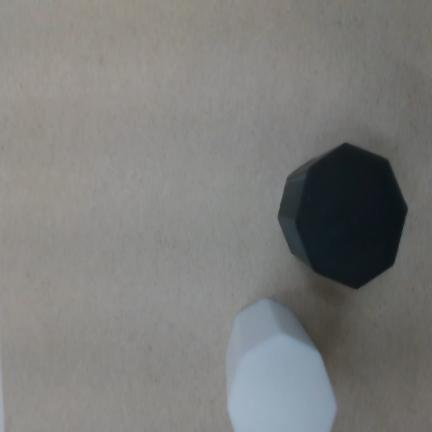Prisma_hexagonal: (278, 142, 409, 290), (226, 297, 338, 431)
